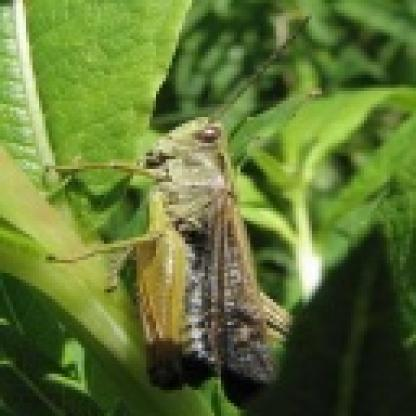grasshopper: (47, 92, 296, 392)
